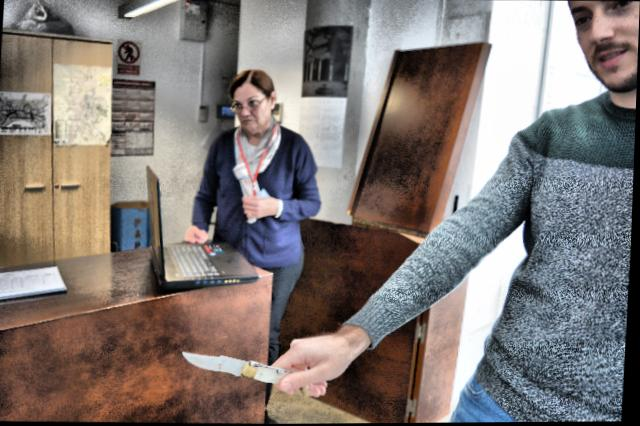knife: (177, 347, 317, 402)
